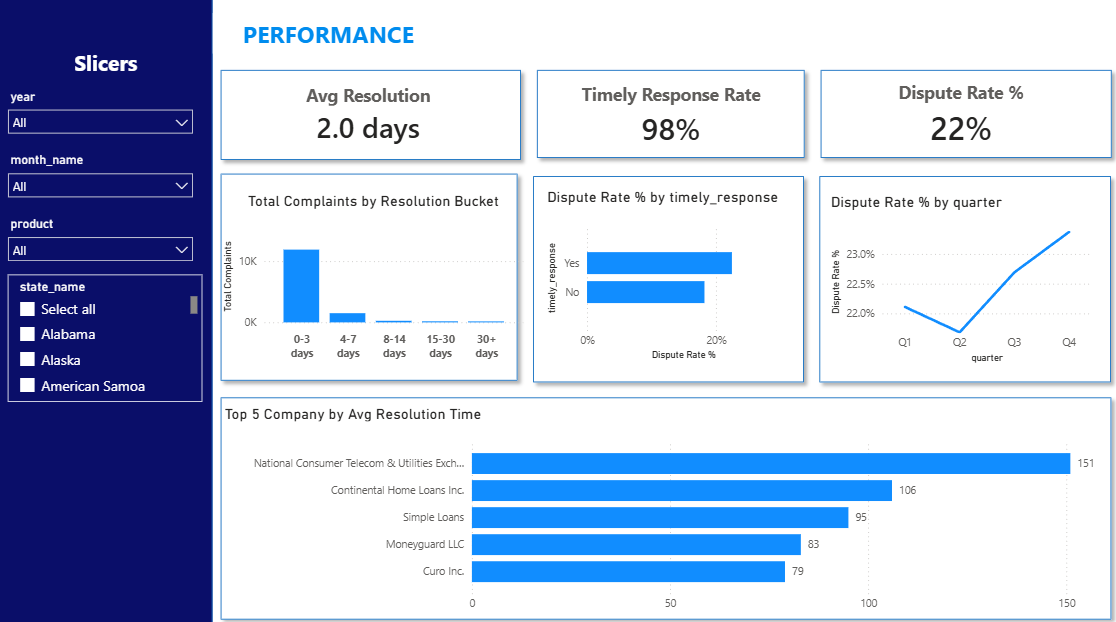

This screenshot's page, from the dashboard's own definition file:
{"tool":"powerbi","page":{"name":"Performance","canvas":[1280,720],"ordinal":1},"visuals":[{"type":"group","id":"g1","title":"Background","box":[0,0,1280,721.3],"z":0},{"type":"shape","box":[0,0,244,721.3],"z":0,"group":"g1"},{"type":"textbox","box":[244.3,18.2,1035.7,45.5],"z":1000},{"type":"shape","box":[929.3,74.7,350.7,118.7],"z":1000,"group":"g1"},{"type":"shape","box":[605.3,74.7,324,118.7],"z":2000,"group":"g1"},{"type":"clusteredColumnChart","fields":{"Category":["public consumer_complaints_ordered.Resolution Bucket"],"Y":["_Measures.Total Complaints (Received)"]},"box":[252,222.7,353.3,200],"z":2000},{"type":"shape","box":[244.3,74.1,361.3,120.9],"z":3000,"group":"g1"},{"type":"clusteredBarChart","fields":{"Category":["public dim_response_flag.timely_response"],"Y":["_Measures.Dispute Rate %"]},"box":[621.2,218.8,288.8,201.2],"z":3000},{"type":"clusteredBarChart","title":"Top 5 Company by Avg Resolution Time","fields":{"Category":["public dim_company.company"],"Y":["_Measures.Avg Resolution Days"]},"box":[252.5,465,1027.5,255],"z":4000},{"type":"cardVisual","fields":{"Data":["_Measures.Avg Resolution Days"]},"box":[261.2,52,321.3,164],"z":5000},{"type":"shape","box":[928.8,195,351.2,253.8],"z":5750,"group":"g1"},{"type":"shape","box":[601.2,195,327.5,253.8],"z":5875,"group":"g1"},{"type":"cardVisual","fields":{"Data":["_Measures.Timely Response Rate %"]},"box":[625.3,64,285.3,141.3],"z":6000},{"type":"shape","box":[244,193.3,357.3,254.7],"z":6000,"group":"g1"},{"type":"cardVisual","fields":{"Data":["_Measures.Dispute Rate %"]},"box":[962.7,74.7,273.3,118.7],"z":7000},{"type":"shape","box":[244,448,1036,272],"z":7000,"group":"g1"},{"type":"lineChart","fields":{"Category":["public dim_date.quarter"],"Y":["_Measures.Dispute Rate %"]},"box":[946.2,223.8,307.5,198.8],"z":8000},{"type":"textbox","box":[0,54.7,244,45.3],"z":9000},{"type":"slicer","fields":{"Values":["public dim_date.year"]},"box":[0,100,231.2,72.5],"z":10000},{"type":"slicer","fields":{"Values":["public dim_date.month_name"]},"box":[0,172.5,231.2,72.5],"z":11000},{"type":"slicer","fields":{"Values":["public dim_product.product"]},"box":[0,245,231.2,72.5],"z":12000},{"type":"slicer","fields":{"Values":["public dim_state.state_name"]},"box":[9.3,317.3,222.7,145.3],"z":13000}]}

Visuals, with their boxes in screenshot pixels (x1, y1, x2, y2), scaled from the page's 1280x720 canvas onto the 1116x622 screenshot:
"Background" group: 0:0:1115:621
shape: 0:0:213:621
textbox: 213:16:1115:55
shape: 810:65:1115:167
shape: 528:65:810:167
clusteredColumnChart - public consumer_complaints_ordered.Resolution Bucket x _Measures.Total Complaints (Received): 220:192:528:365
shape: 213:64:528:168
clusteredBarChart - public dim_response_flag.timely_response x _Measures.Dispute Rate %: 542:189:793:363
"Top 5 Company by Avg Resolution Time" clusteredBarChart: 220:402:1115:621
cardVisual - _Measures.Avg Resolution Days: 228:45:508:187
shape: 810:168:1115:388
shape: 524:168:810:388
cardVisual - _Measures.Timely Response Rate %: 545:55:794:177
shape: 213:167:524:387
cardVisual - _Measures.Dispute Rate %: 839:65:1078:167
shape: 213:387:1115:621
lineChart - public dim_date.quarter x _Measures.Dispute Rate %: 825:193:1093:365
textbox: 0:47:213:86
slicer - public dim_date.year: 0:86:202:149
slicer - public dim_date.month_name: 0:149:202:212
slicer - public dim_product.product: 0:212:202:274
slicer - public dim_state.state_name: 8:274:202:400
